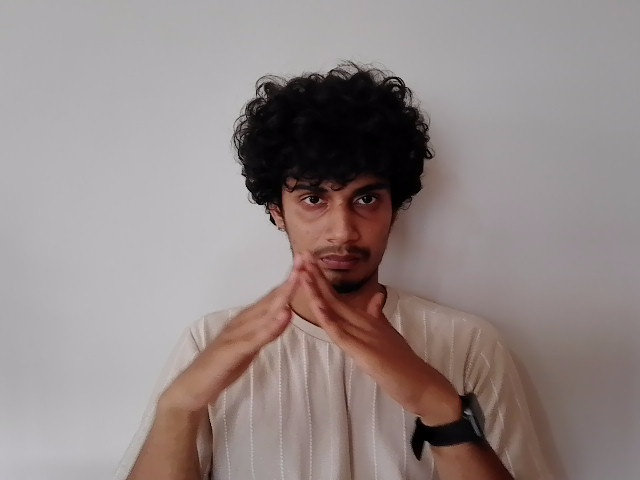home: (179, 249, 452, 411)
